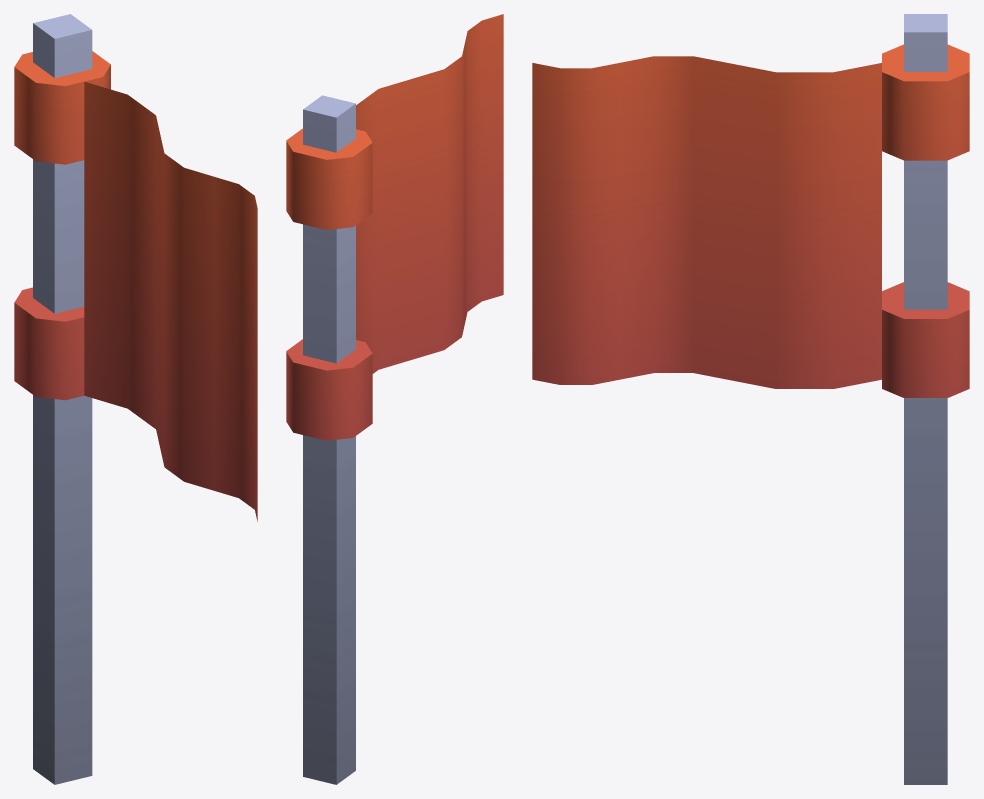
The model's file is flag.fbx.
The picture shows the model from 3 angles, left to right: view 1: azimuth 30°, elevation 25°; view 2: azimuth 150°, elevation 25°; view 3: azimuth 270°, elevation 25°; orthographic projection. The views are drawn at different scales.
Visible parts, largest first — view 1: flag; view 2: flag; view 3: flag.
Boxes of the visible parts, left/top/right/bottom form: flag: left=14, top=14, right=257, bottom=784; flag: left=286, top=14, right=503, bottom=784; flag: left=532, top=14, right=969, bottom=784.
Size of the model in its own units: 10 by 95 by 50.
